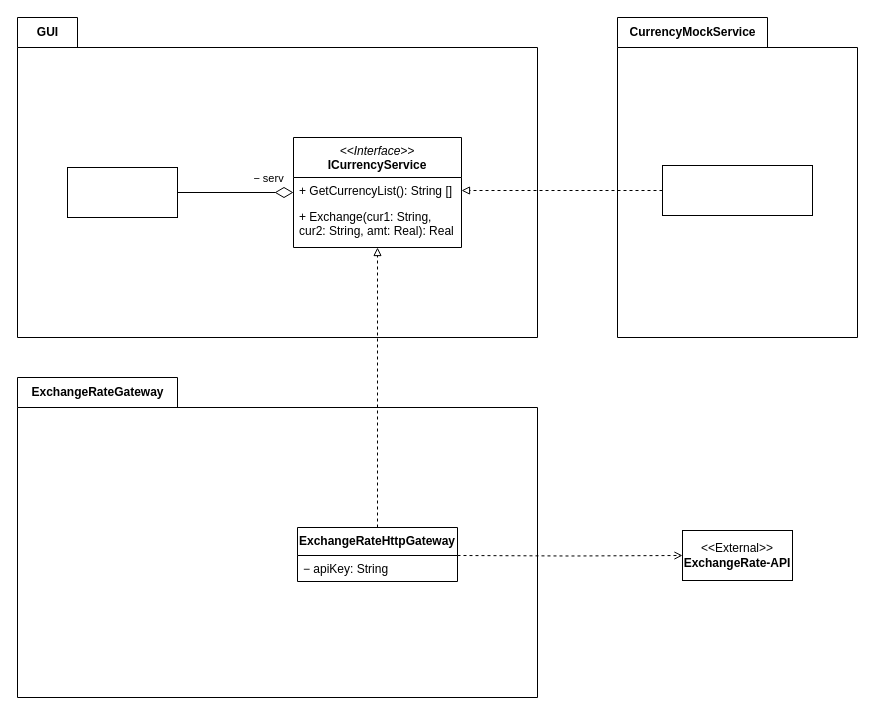
The diagram is 875 pixels wide and 715 high, and some of its shapes have lost their labels. The shapes that lost their labels are listed below. From the top down, each one's centre as x and y in pixels, then its label:
At point (122, 192): "MainWindow".
At point (737, 190): "CurrencyMockGateway".
